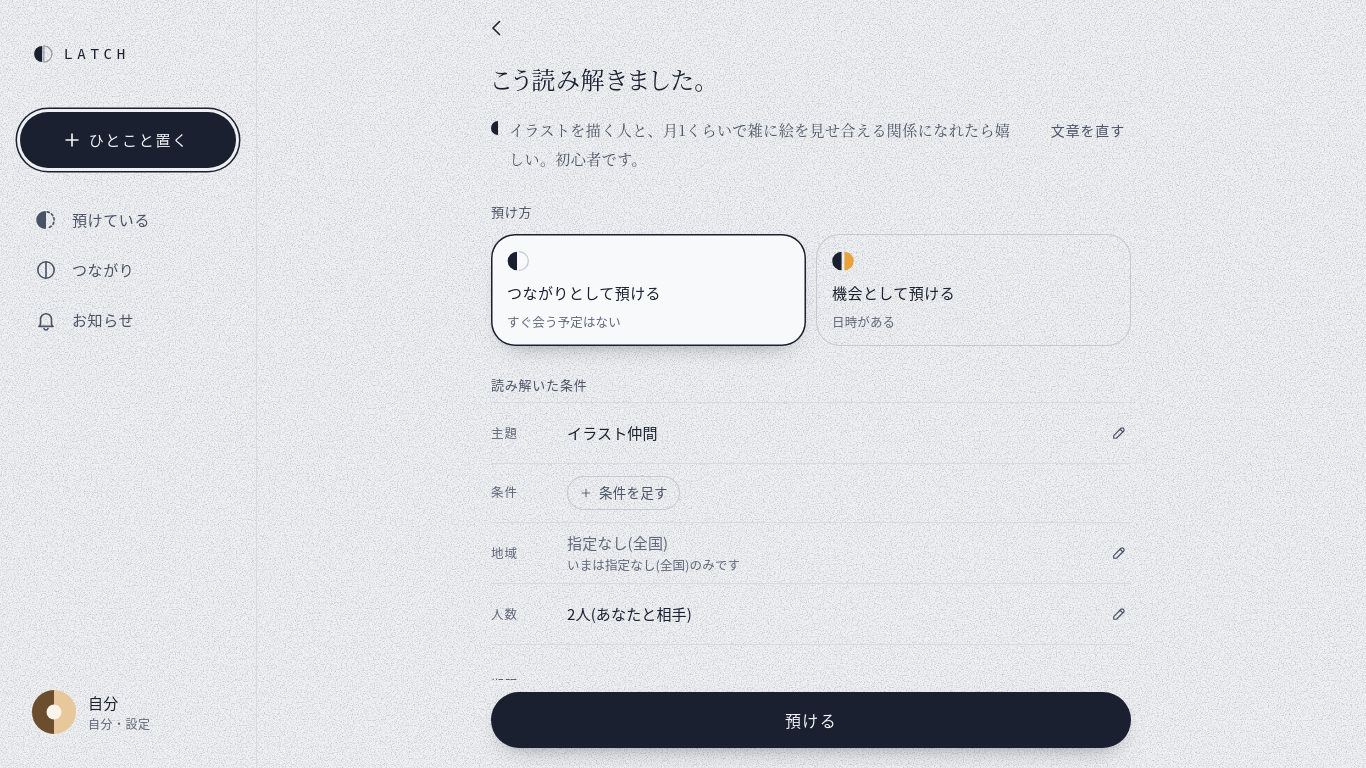
Test case: Confirm(form切替) › つながり→機会で日時欄が現れ・期限のpillsが消える
What coordinates should you click on to do the following:
click the radio button labelled "機会として預ける 日時がある"
I would click on:
 (974, 290)
Its box is left=816, top=234, right=1131, bottom=346.
(page scrolled)
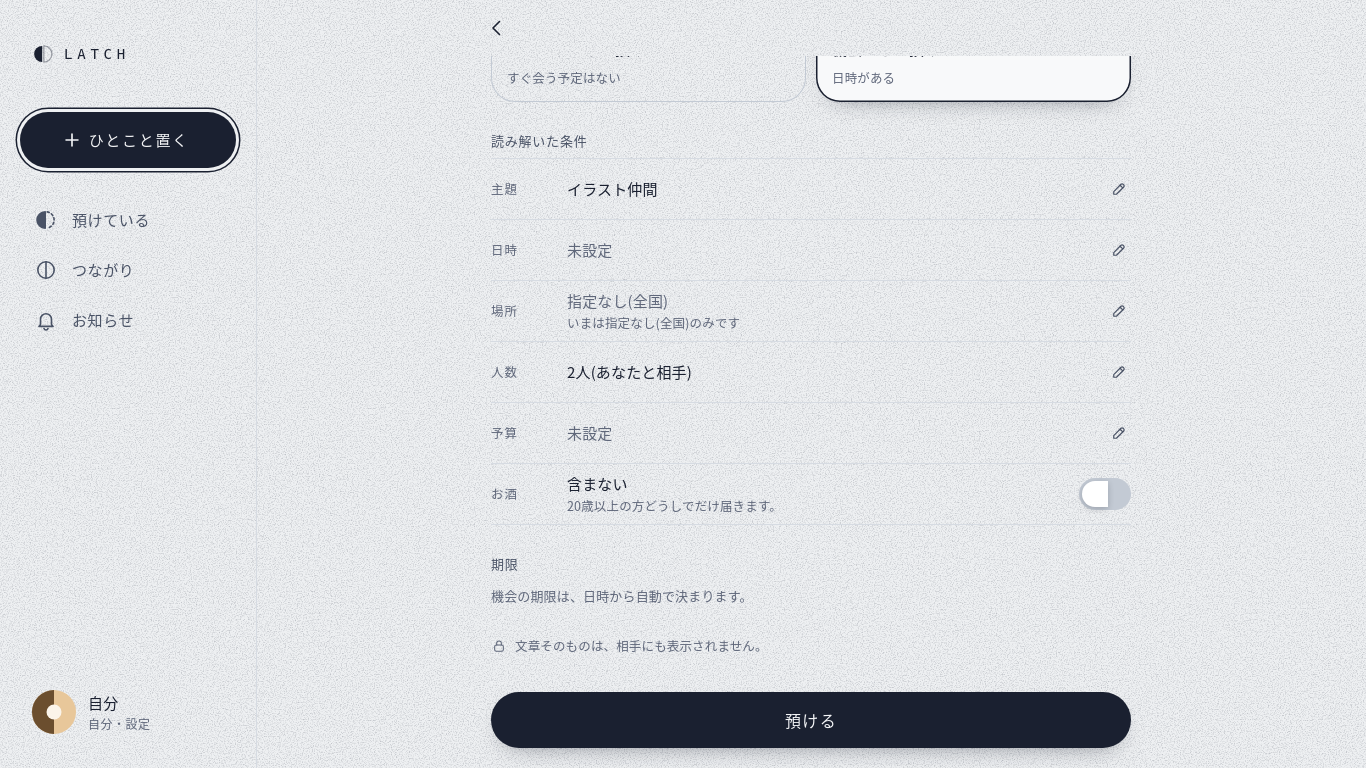
expect the text "日時" is shown: met, box left=491, top=240, right=518, bottom=259
expect the text "機会の期限は、日時から自動で決まります。" is shown: met, box left=491, top=586, right=753, bottom=606
